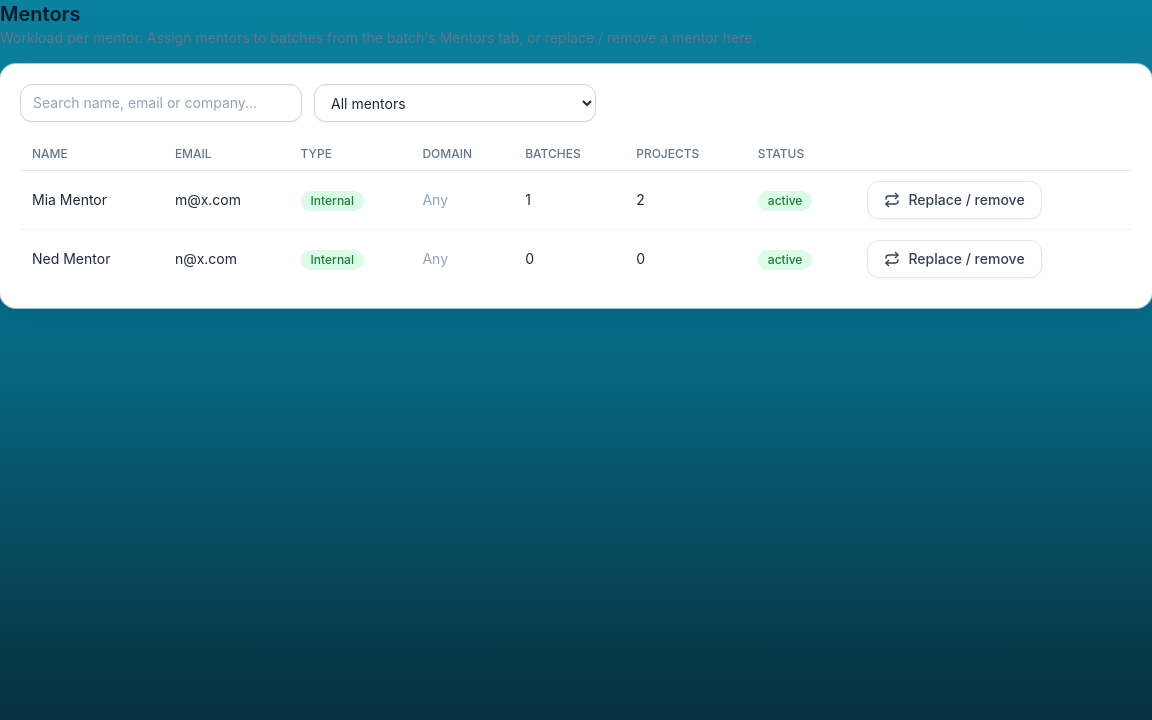
Test: replace / remove a mentor › hands a mentor’s batches and projects to the chosen replacement
The width and height of the screenshot is (1152, 720).
Click the button with aria-label "Replace or remove Mia Mentor". click: (954, 200)
box: [867,181,1042,219]
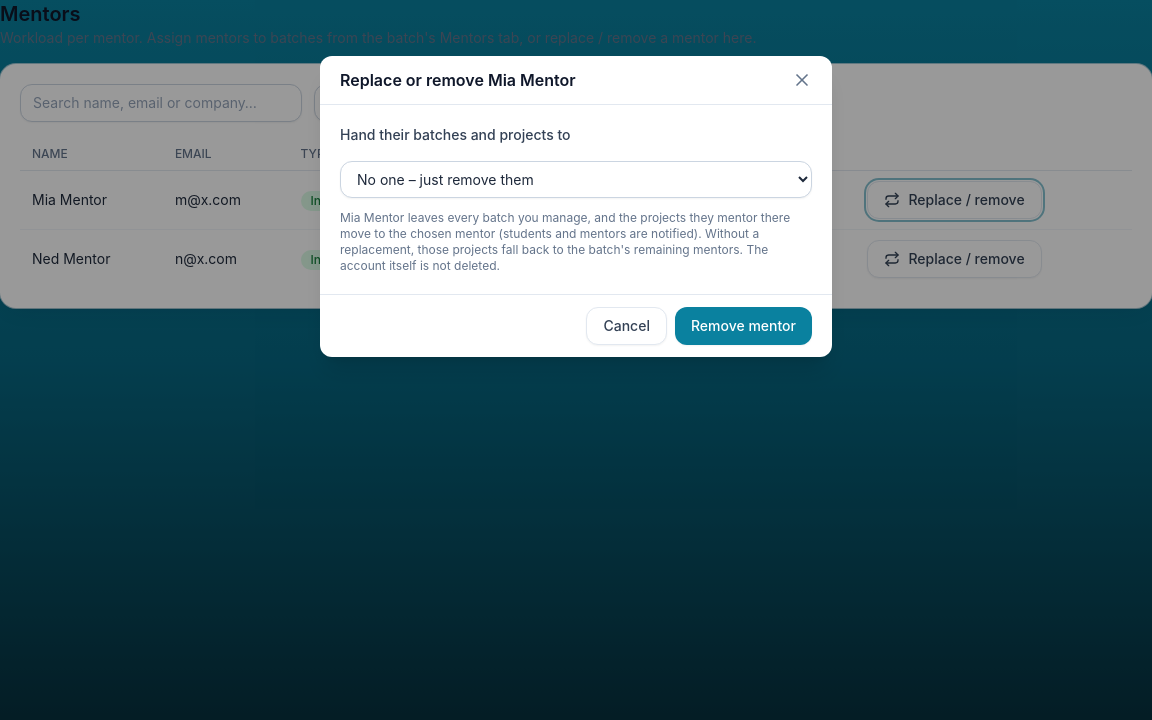
Select "Ned Mentor (0 projects)" in the dropdown labelled "Hand their batches and projects to". click: (576, 180)
box: [340,161,812,198]
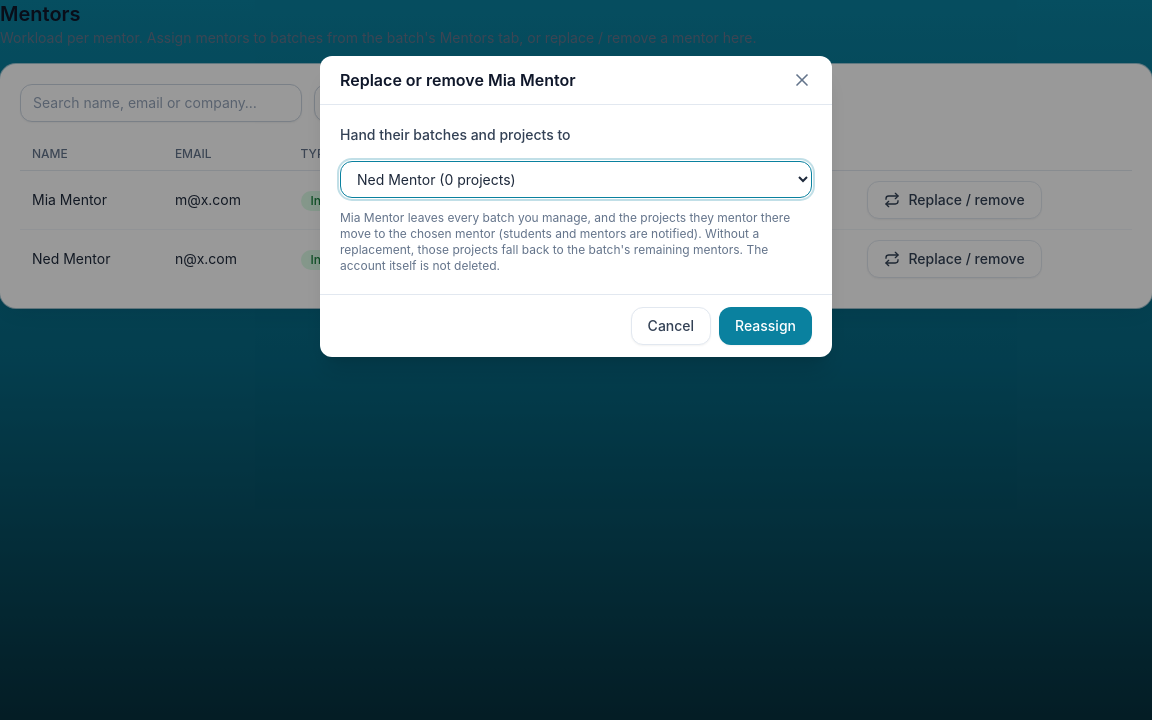
Click the button "Reassign". click: (766, 326)
box: [719,307,812,345]
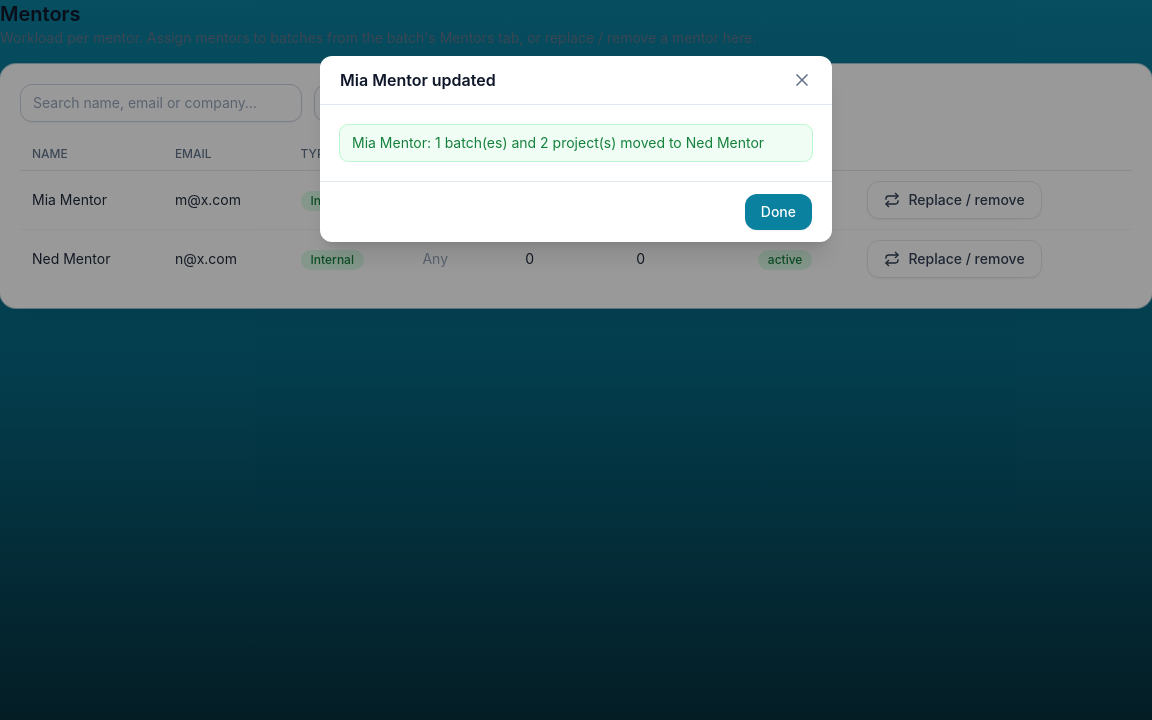
Check: the text "Mia Mentor: 1 batch(es) and 2 project(s) moved to Ned Mentor" is shown, box [340,125,812,161]
